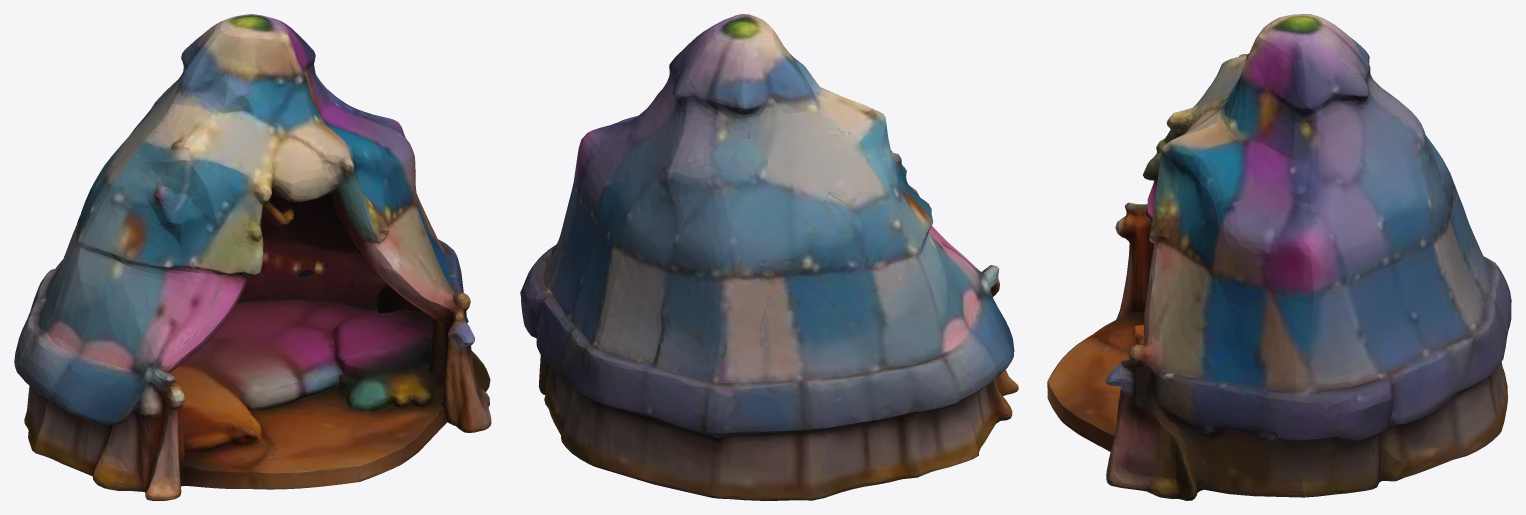
The picture shows the model from 3 angles, left to right: view 1: azimuth 30°, elevation 25°; view 2: azimuth 150°, elevation 25°; view 3: azimuth 270°, elevation 25°; orthographic projection. The views are drawn at different scales.
Visible parts, largest first — view 1: world; view 2: world; view 3: world.
Boxes of the visible parts, x1,y1,x2,y2 form: world: (14,14,491,500); world: (520,14,1018,500); world: (1047,14,1511,500).
Bounding box in the file's own units: 0.9993 × 0.8563 × 0.9133.
Materials: 1 (1 with a texture image).
